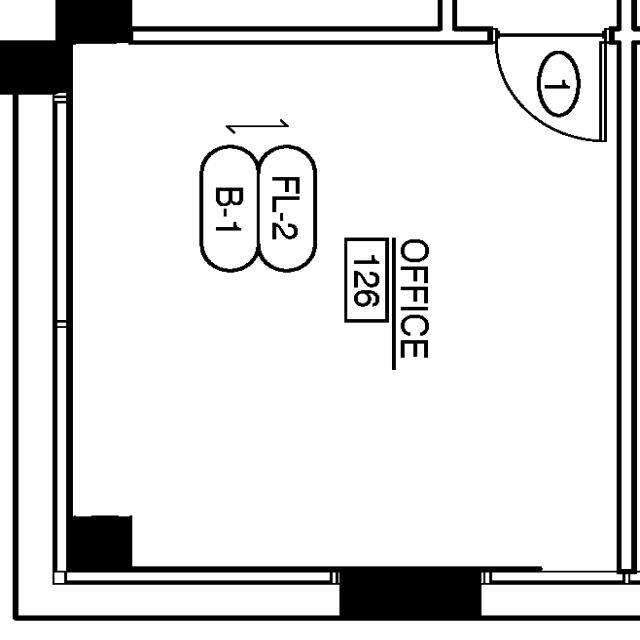Doors: (480, 24, 612, 151)
